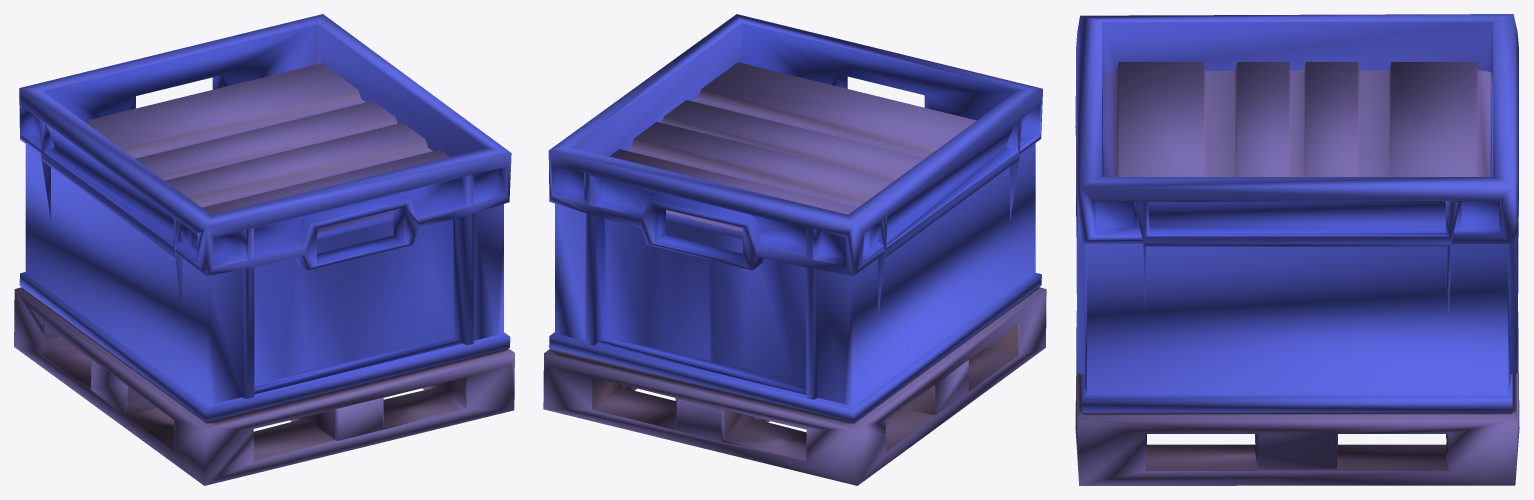
File: model.progressive.glb
3 views of the same model, side by side, from view 1: azimuth 30°, elevation 25°; view 2: azimuth 150°, elevation 25°; view 3: azimuth 270°, elevation 25° (orthographic). The views are drawn at different scales.
Visible parts, largest first — view 1: material; view 2: material; view 3: material.
Boxes of the visible parts, x1=… form: material: x1=14, y1=14, x2=514, y2=485; material: x1=543, y1=14, x2=1046, y2=485; material: x1=1075, y1=14, x2=1519, y2=485.
Size of the model in its own units: 1.79 by 1.42 by 1.9.
1 material, 1 textured.
